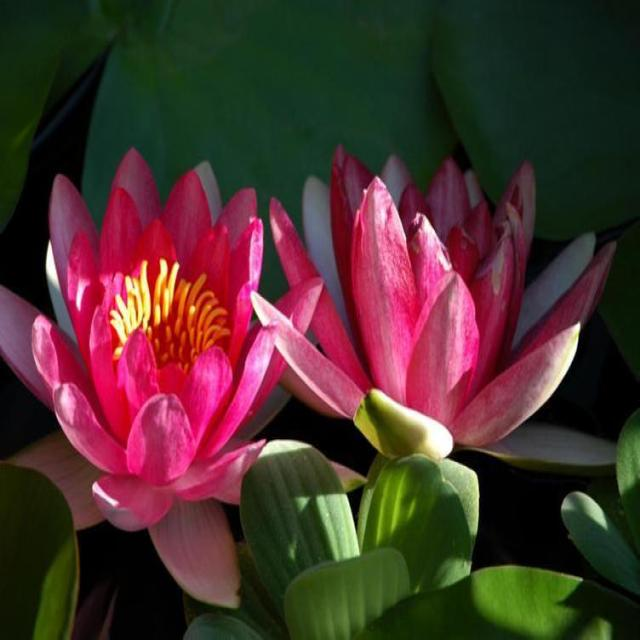water-lily: (252, 106, 620, 512), (15, 124, 275, 553)
